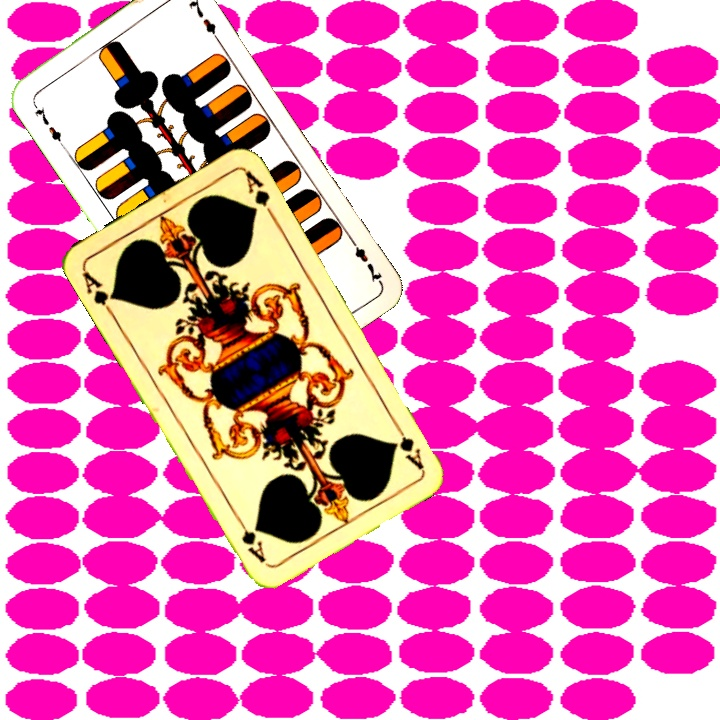E7: (344, 233, 385, 285), (28, 97, 67, 150)
GA: (78, 266, 120, 319), (390, 418, 427, 473)
